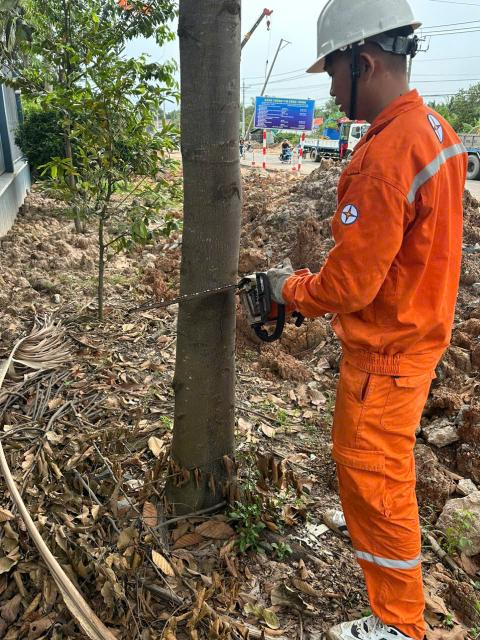gloves: (248, 257, 315, 318)
helmet: (267, 0, 428, 84)
shoes: (323, 600, 432, 640)
